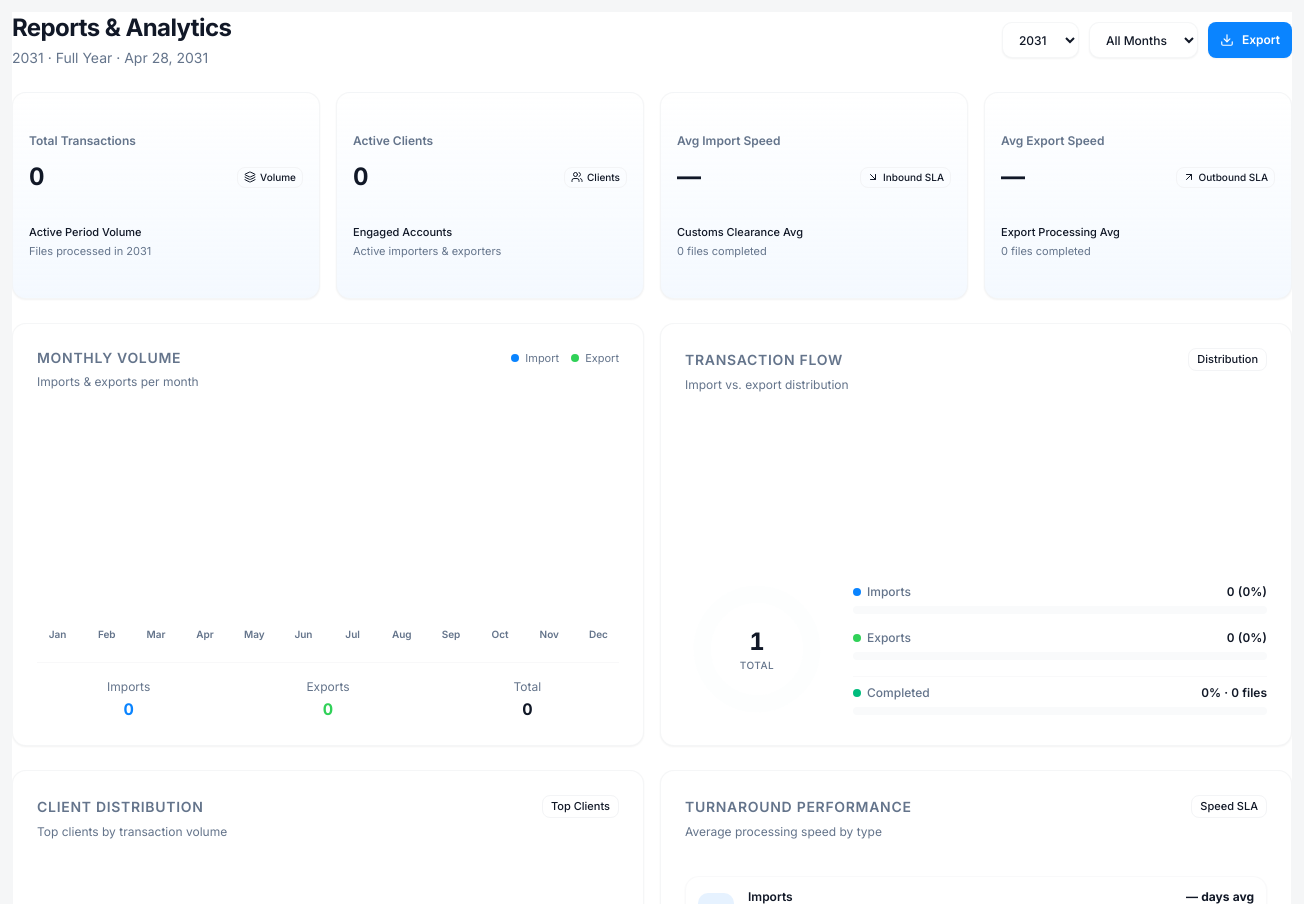
Scenario: ReportsAnalytics › uses the selected month volume for transaction flow instead of annual totals
Select "2026" in the 1st dropdown at (1040, 40), box x1=1002 y1=22 x2=1079 y2=58
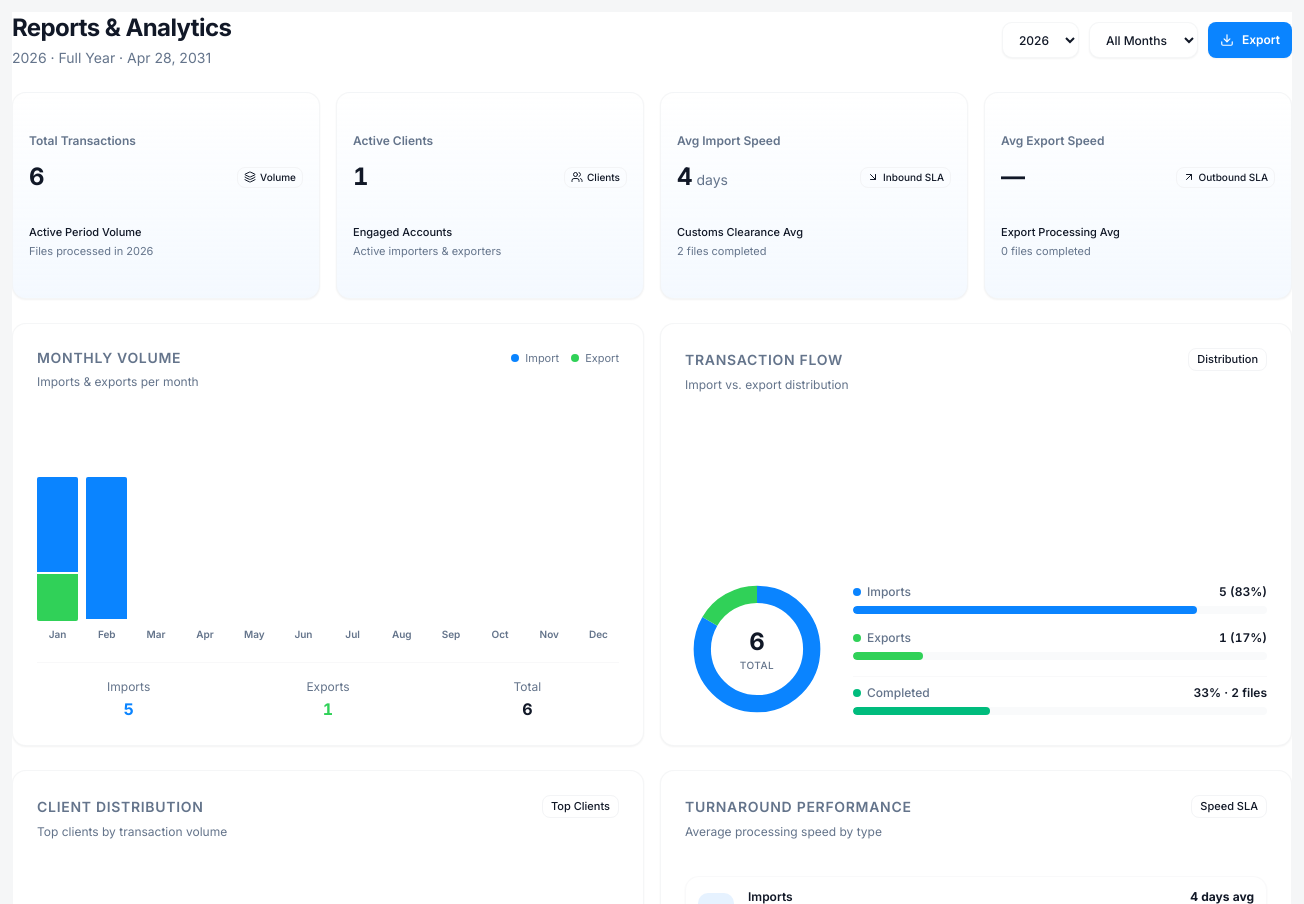
Select "January" in the 2nd dropdown at (1143, 40), box x1=1089 y1=22 x2=1198 y2=58
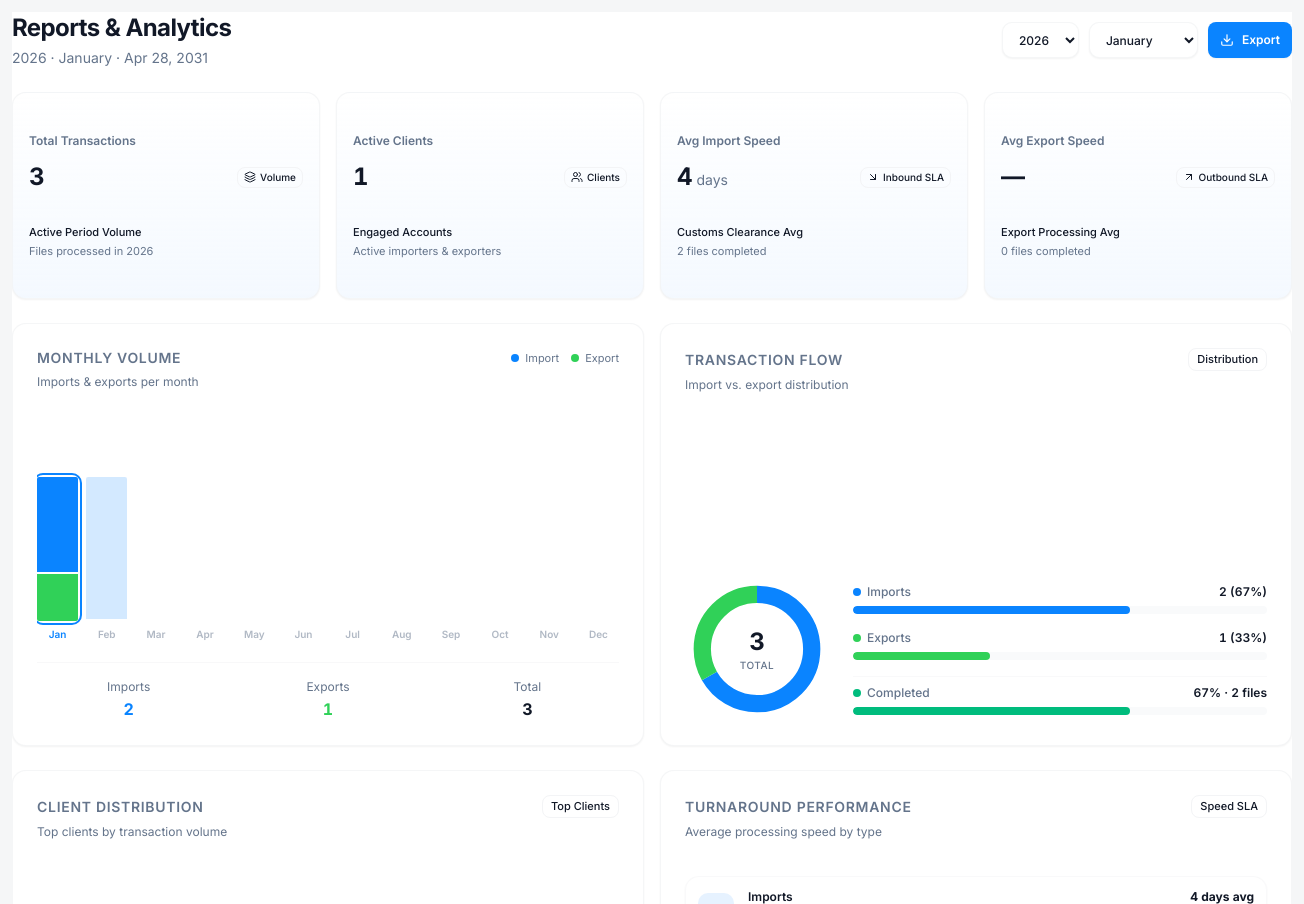
Expected: the element showing "Jan" is shown, x1=37 y1=477 x2=78 y2=642
Result: the text "2026 · January · Apr 28, 2031" is shown at x1=12 y1=48 x2=231 y2=68
